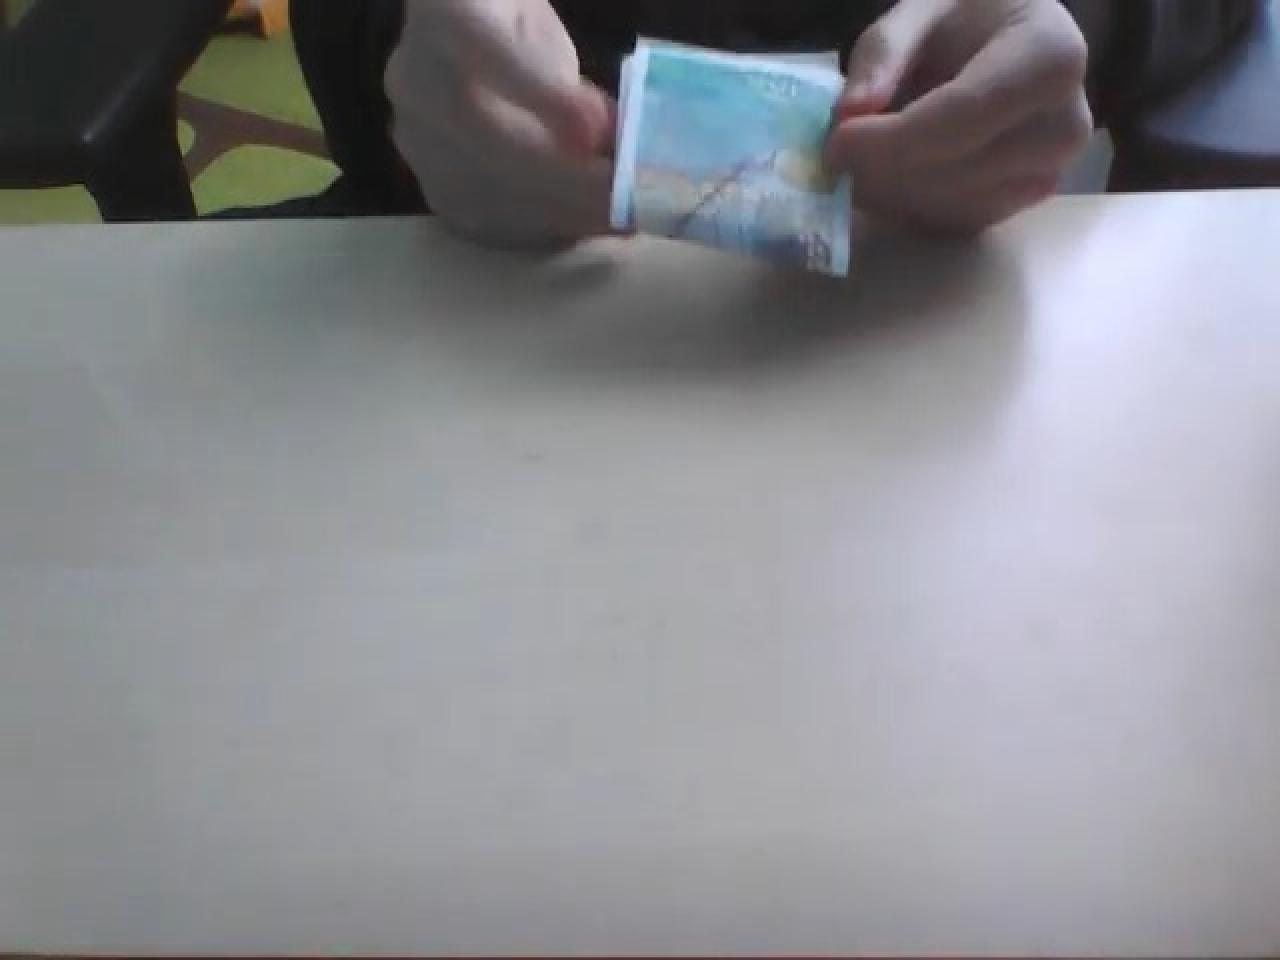100leva: (608, 32, 860, 282)
